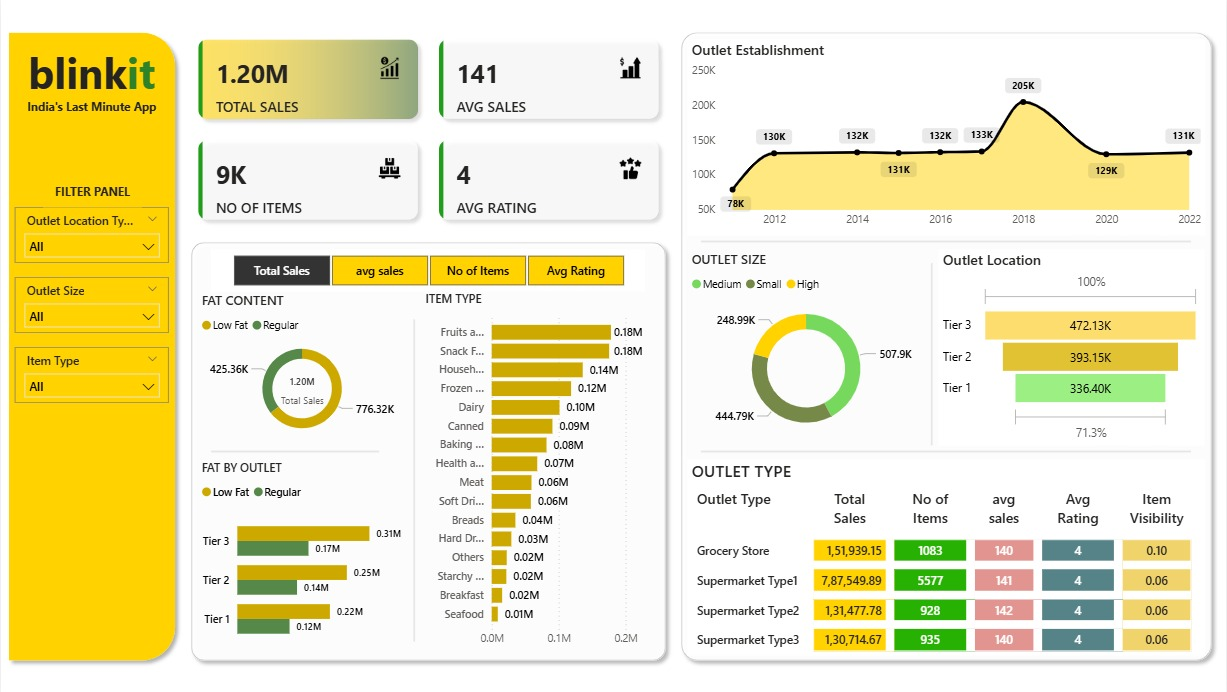

Layout of this report page (visuals, bound fields, positions):
{"tool":"powerbi","page":{"name":"Page 1","canvas":[1400,800],"ordinal":0},"visuals":[{"type":"shape","box":[0,32,208,736],"z":0},{"type":"textbox","box":[16,48,176,80],"z":1000},{"type":"textbox","box":[16,112,176,32],"z":2000},{"type":"cardVisual","fields":{"Data":["BlinkIT Grocery Data.Total Sales","BlinkIT Grocery Data.avg sales","BlinkIT Grocery Data.No of Items","BlinkIT Grocery Data.Avg Rating"]},"box":[208,32,560,240],"z":3000},{"type":"shape","box":[208,272,560,496],"z":4000},{"type":"donutChart","title":"FAT CONTENT","fields":{"Y":["BlinkIT Grocery Data.Total Sales"],"Category":["BlinkIT Grocery Data.Item Fat Content"]},"box":[224,336,240,176],"z":5000},{"type":"slicer","fields":{"Values":["Metrics.Metrics"]},"box":[240,288,496,48],"z":6000},{"type":"cardVisual","fields":{"Data":["BlinkIT Grocery Data.Total Sales"]},"box":[288,416,112,64],"z":7000},{"type":"clusteredBarChart","title":"FAT BY OUTLET","fields":{"Y":["BlinkIT Grocery Data.Total Sales"],"Series":["BlinkIT Grocery Data.Item Fat Content"],"Category":["BlinkIT Grocery Data.Outlet Location Type"]},"box":[224,528,240,224],"z":8000},{"type":"shape","box":[240,512,192,16],"z":9000},{"type":"shape","box":[464,368,16,368],"z":10000},{"type":"barChart","title":"ITEM TYPE","fields":{"Y":["BlinkIT Grocery Data.Total Sales"],"Category":["BlinkIT Grocery Data.Item Type"]},"box":[480,336,272,416],"z":11000},{"type":"shape","box":[768,32,624,736],"z":12000},{"type":"lineChart","title":"Outlet Establishment","fields":{"Category":["BlinkIT Grocery Data.Outlet Establishment Year"],"Y":["BlinkIT Grocery Data.Total Sales"]},"box":[784,48,592,224],"z":13000},{"type":"donutChart","title":"OUTLET SIZE","fields":{"Y":["BlinkIT Grocery Data.Total Sales"],"Category":["BlinkIT Grocery Data.Outlet Size"]},"box":[784,288,272,224],"z":14000},{"type":"shape","box":[1056,304,16,208],"z":15000},{"type":"shape","box":[800,272,560,16],"z":16000},{"type":"funnel","title":"Outlet Location","fields":{"Category":["BlinkIT Grocery Data.Outlet Location Type"],"Y":["BlinkIT Grocery Data.Total Sales"]},"box":[1072,288,304,224],"z":17000},{"type":"shape","box":[800,512,560,16],"z":18000},{"type":"pivotTable","title":"OUTLET TYPE","fields":{"Rows":["BlinkIT Grocery Data.Outlet Type"],"Values":["BlinkIT Grocery Data.Total Sales","BlinkIT Grocery Data.No of Items","BlinkIT Grocery Data.avg sales","BlinkIT Grocery Data.Avg Rating","Avg(BlinkIT Grocery Data.Item Visibility)"]},"box":[784,528,592,224],"z":19000},{"type":"slicer","fields":{"Values":["BlinkIT Grocery Data.Outlet Location Type"]},"box":[16,240,176,64],"z":20000},{"type":"slicer","fields":{"Values":["BlinkIT Grocery Data.Item Type"]},"box":[16,400,176,64],"z":21000},{"type":"slicer","fields":{"Values":["BlinkIT Grocery Data.Outlet Size"]},"box":[16,320,176,64],"z":22000},{"type":"textbox","box":[48,208,112,32],"z":23000}]}

Visuals, with their boxes in screenshot pixels (x1, y1, x2, y2), scaled from the page's 1400x800 canvas onto the 1227x692 screenshot:
shape: <region>0, 28, 182, 664</region>
textbox: <region>14, 42, 168, 111</region>
textbox: <region>14, 97, 168, 125</region>
cardVisual - BlinkIT Grocery Data.Total Sales x BlinkIT Grocery Data.avg sales: <region>182, 28, 673, 235</region>
shape: <region>182, 235, 673, 664</region>
"FAT CONTENT" donutChart: <region>196, 291, 407, 443</region>
slicer - Metrics.Metrics: <region>210, 249, 645, 291</region>
cardVisual - BlinkIT Grocery Data.Total Sales: <region>252, 360, 351, 415</region>
"FAT BY OUTLET" clusteredBarChart: <region>196, 457, 407, 650</region>
shape: <region>210, 443, 379, 457</region>
shape: <region>407, 318, 421, 637</region>
"ITEM TYPE" barChart: <region>421, 291, 659, 650</region>
shape: <region>673, 28, 1220, 664</region>
"Outlet Establishment" lineChart: <region>687, 42, 1206, 235</region>
"OUTLET SIZE" donutChart: <region>687, 249, 926, 443</region>
shape: <region>926, 263, 940, 443</region>
shape: <region>701, 235, 1192, 249</region>
"Outlet Location" funnel: <region>940, 249, 1206, 443</region>
shape: <region>701, 443, 1192, 457</region>
"OUTLET TYPE" pivotTable: <region>687, 457, 1206, 650</region>
slicer - BlinkIT Grocery Data.Outlet Location Type: <region>14, 208, 168, 263</region>
slicer - BlinkIT Grocery Data.Item Type: <region>14, 346, 168, 401</region>
slicer - BlinkIT Grocery Data.Outlet Size: <region>14, 277, 168, 332</region>
textbox: <region>42, 180, 140, 208</region>
